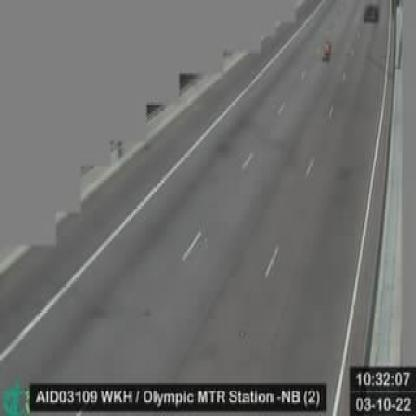Car: (364, 4, 378, 19)
